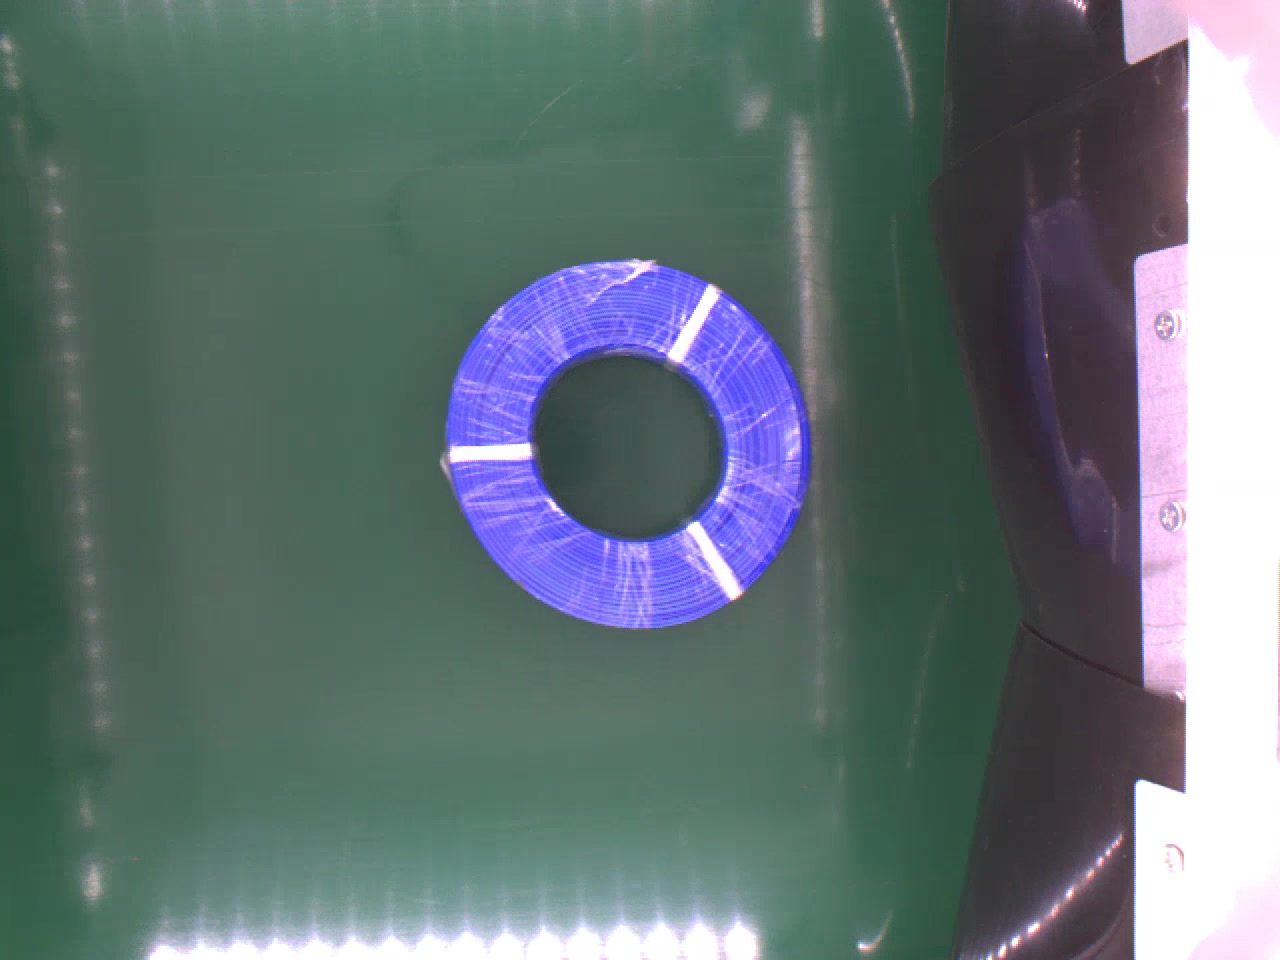blue: (439, 256, 813, 630)
